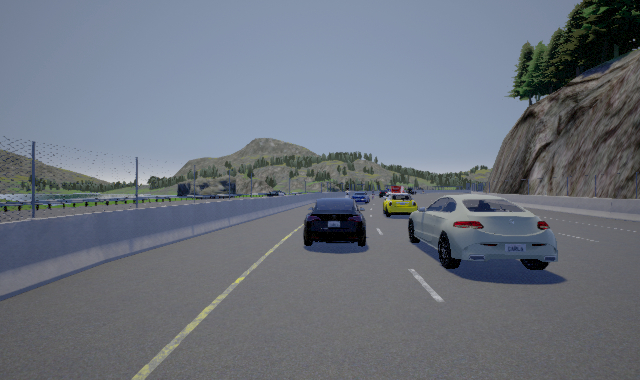vehicle: (408, 192, 558, 272), (301, 199, 370, 247), (383, 192, 420, 218), (352, 191, 370, 203)
